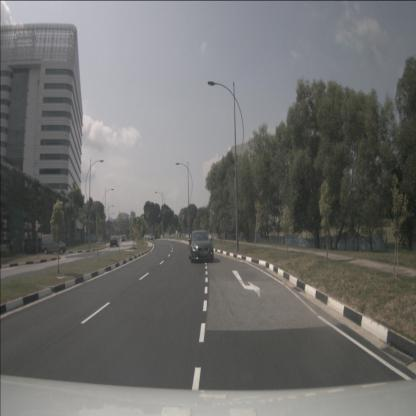vehicle-car: (188, 230, 214, 264), (42, 234, 66, 255), (110, 236, 119, 247), (148, 234, 154, 242)
